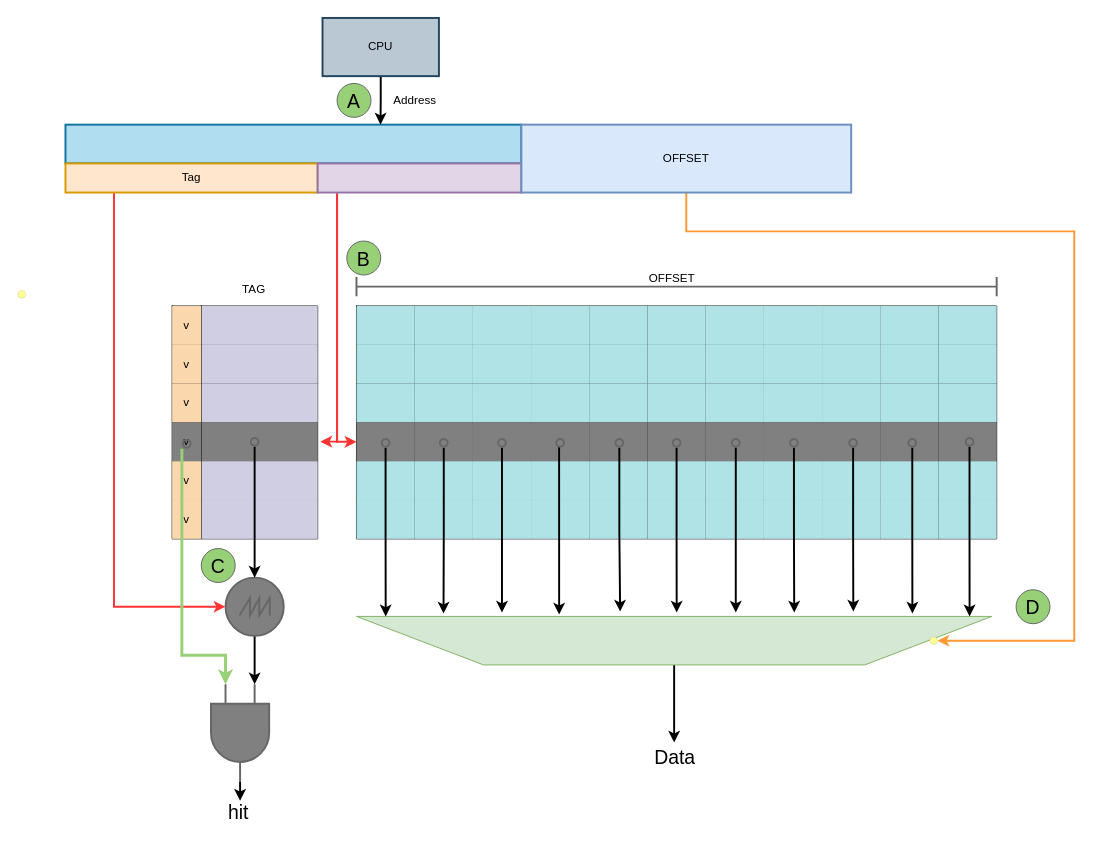
Some shapes in this 1100 by 847 pixel diagram are drawn without their labels. The centre of each missing label's shape, as x and y in pixels:
"CACHE LINE Address" belongs at [293,143].
"Index" belongs at [419,177].
